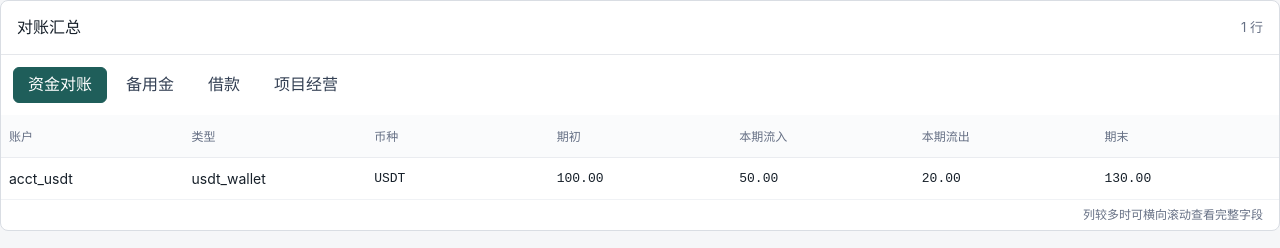
Scenario: MonthCloseReconciliationTabs › renders only the active reconciliation tab table
Expected: the element showing "资金对账 备用金 借款 项目经营" is shown, [13,67,353,103]
Expected: the panel shows "acct_usdt", [9,170,73,187]
Step 1. Click the tab "备用金" → [150, 85], box [111,67,189,103]
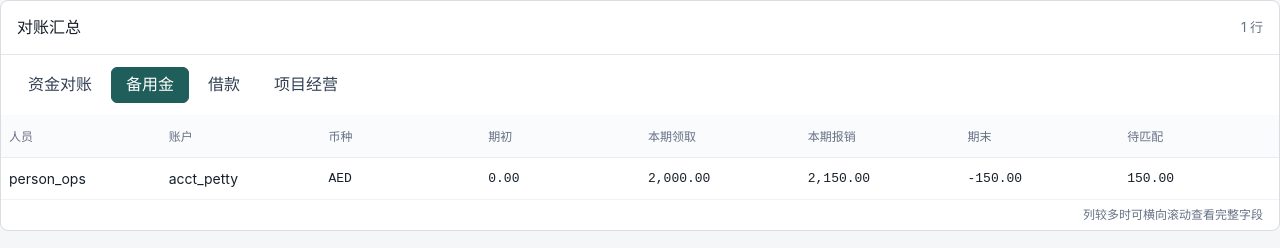
Now the panel shows "person_ops", box [9,170,86,187]
Now the cell no longer shows "acct_usdt"
